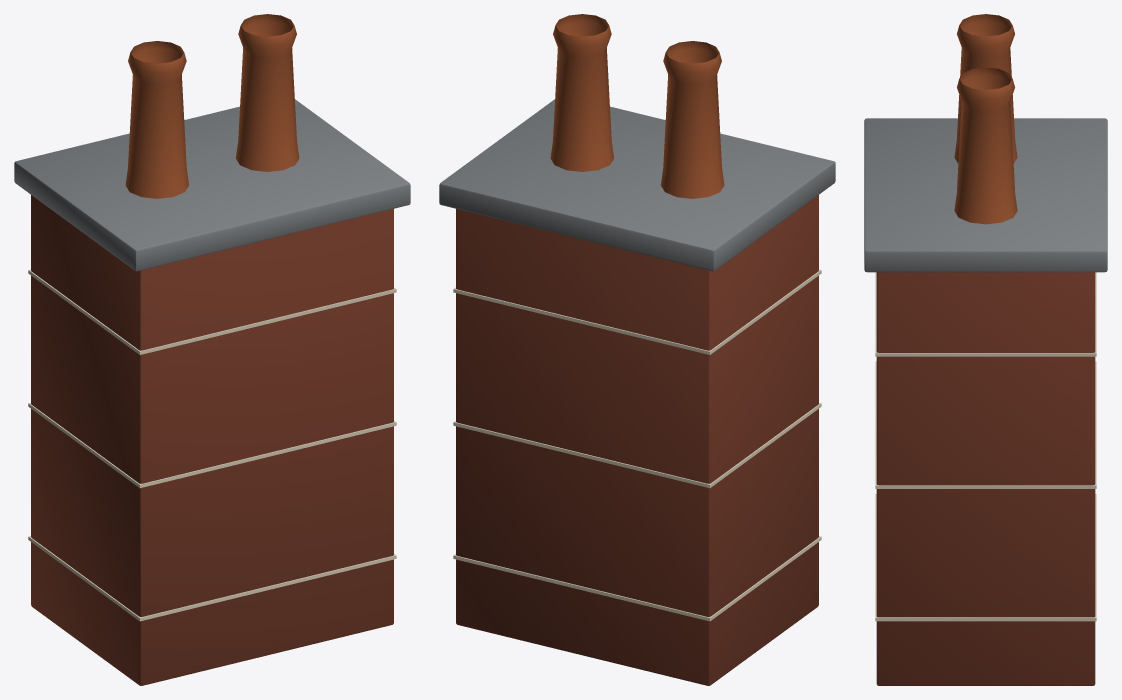
File: mae_chimney.glb
The picture shows the model from 3 angles, left to right: view 1: azimuth 30°, elevation 25°; view 2: azimuth 150°, elevation 25°; view 3: azimuth 270°, elevation 25°; orthographic projection.
Visible parts, largest first — view 1: mae_chimney; view 2: mae_chimney; view 3: mae_chimney.
Boxes of the visible parts, x1,y1,x2,y2 form: mae_chimney: (14, 14, 410, 685); mae_chimney: (439, 14, 835, 685); mae_chimney: (864, 14, 1107, 685).
Size of the model in its own units: 1.3 by 2.6 by 1.
